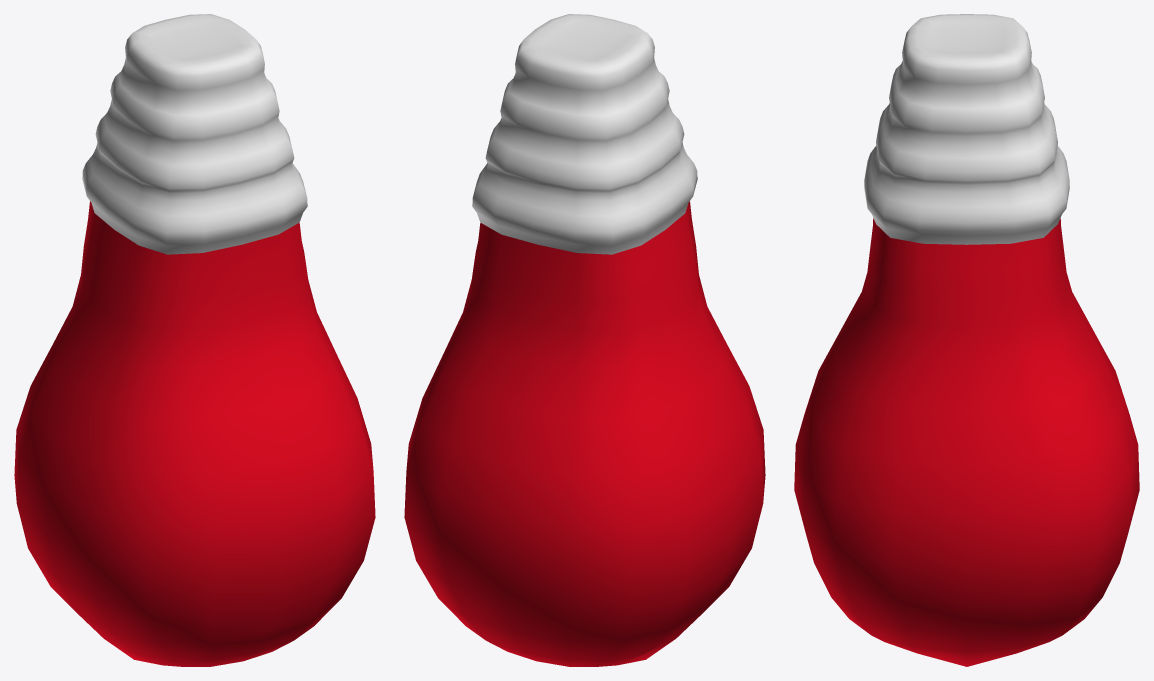
File: bulb.fbx
3 renders of one model, left to right at view 1: azimuth 30°, elevation 25°; view 2: azimuth 150°, elevation 25°; view 3: azimuth 270°, elevation 25°, orthographic.
Visible parts, largest first — view 1: Cylinder.003; view 2: Cylinder.003; view 3: Cylinder.003.
Part boxes in pixels (left/top/right/bottom): Cylinder.003: left=14, top=14, right=375, bottom=666; Cylinder.003: left=404, top=14, right=765, bottom=666; Cylinder.003: left=794, top=14, right=1139, bottom=666.
Bounding box in the file's own units: 82.37 × 163 × 83.54.
